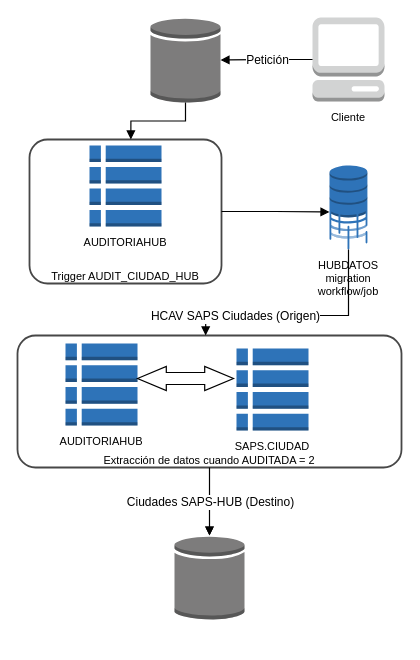
The diagram is 420 pixels wide and 660 high, and some of its shapes have lost their labels. Each missing label, with the centre of its shape:
"HUB" belongs at (x=209, y=577).
"INNER" belongs at (x=185, y=378).
"SAPS" belongs at (x=185, y=59).
